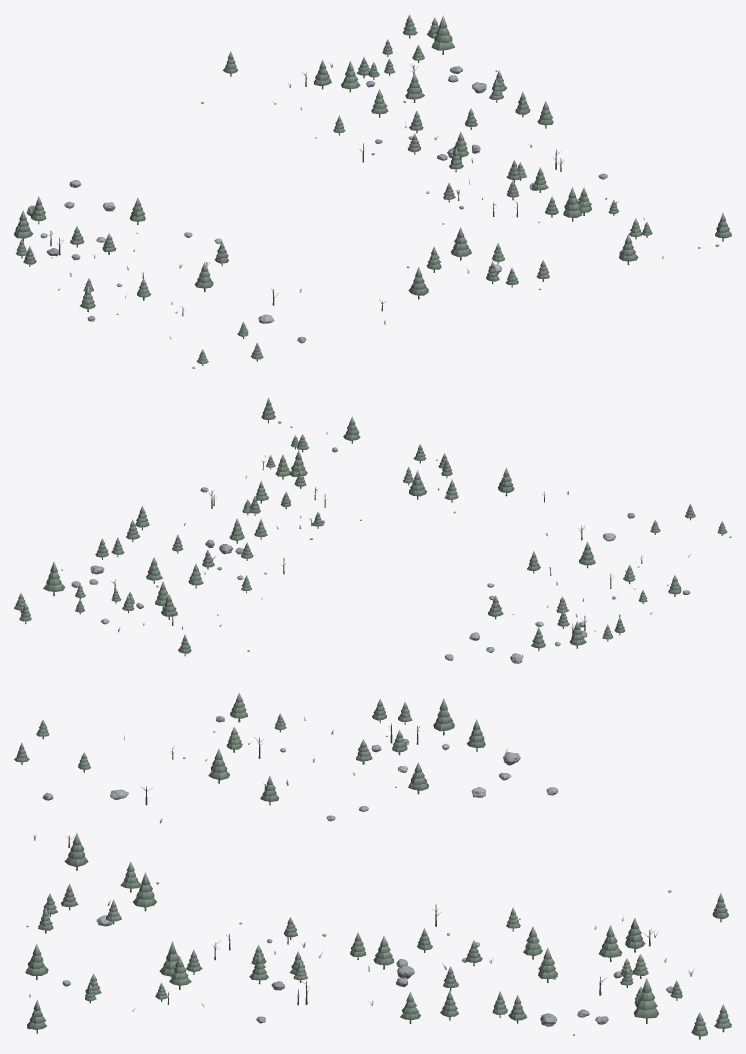
The model's file is frost_land_scatter_c14_09.glb.
The picture shows the model from 3 angles, top to bottom: view 1: azimuth 30°, elevation 25°; view 2: azimuth 150°, elevation 25°; view 3: azimuth 270°, elevation 25°; orthographic projection. The views are drawn at different scales.
Visible parts, largest first — view 1: frost_land_scatter_c14_09; view 2: frost_land_scatter_c14_09; view 3: frost_land_scatter_c14_09.
Boxes of the visible parts, left/top/right/bottom form: frost_land_scatter_c14_09: left=14, top=14, right=731, bottom=368; frost_land_scatter_c14_09: left=14, top=397, right=731, bottom=663; frost_land_scatter_c14_09: left=14, top=692, right=731, bottom=1039.
Bounding box in the file's own units: 259 × 20.66 × 245.
